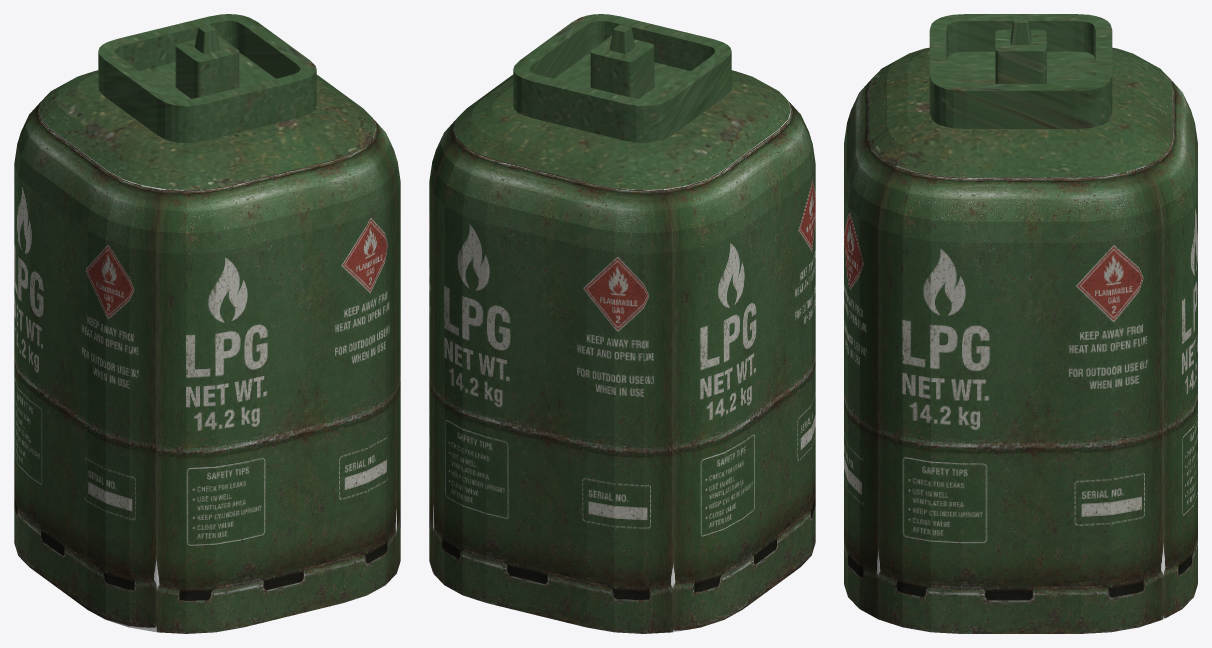
Rendered from Gas.fbx.
3 renders of one model, left to right at view 1: azimuth 30°, elevation 25°; view 2: azimuth 150°, elevation 25°; view 3: azimuth 270°, elevation 25°, orthographic. The views are drawn at different scales.
Parts seen in each view (by area): view 1: Gas; view 2: Gas; view 3: Gas.
Part boxes in pixels (box(x1,y1,x2,y2)): Gas: box(14, 14, 400, 633); Gas: box(429, 14, 815, 633); Gas: box(844, 14, 1197, 633).
Size of the model in its own units: 245 by 413 by 245.
